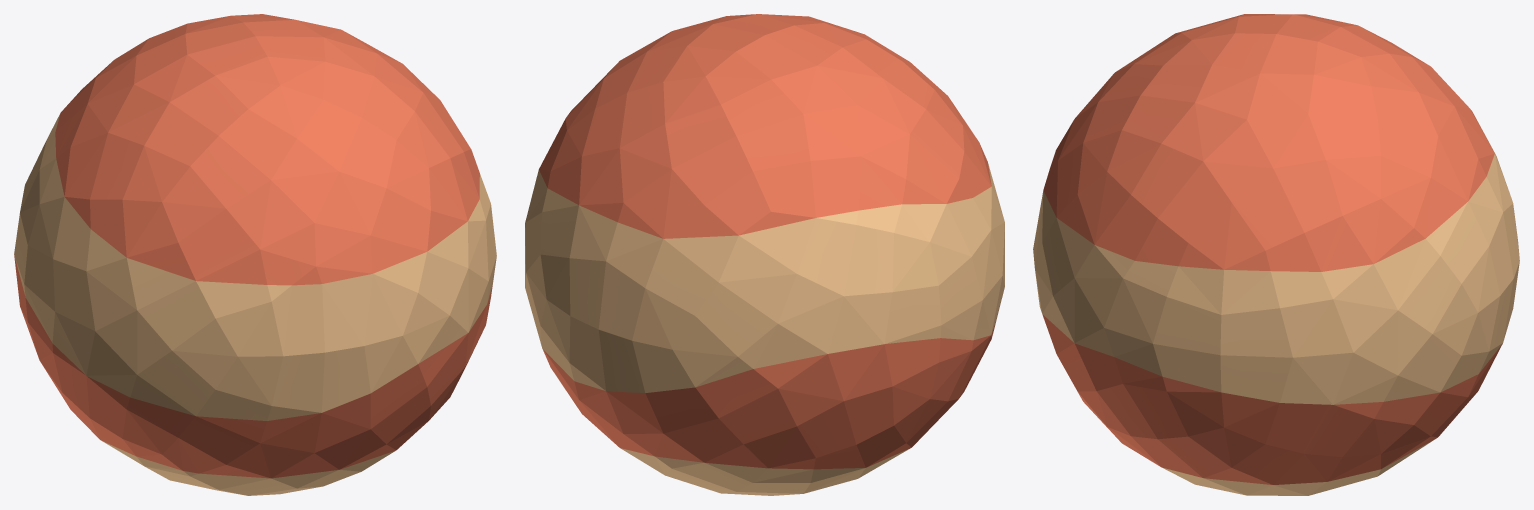
File: venus.glb
The picture shows the model from 3 angles, left to right: view 1: azimuth 30°, elevation 25°; view 2: azimuth 150°, elevation 25°; view 3: azimuth 270°, elevation 25°; orthographic projection.
Visible parts, largest first — view 1: huitugou_2145_04; view 2: huitugou_2145_04; view 3: huitugou_2145_04.
Part boxes in pixels (left/top/right/bottom): huitugou_2145_04: left=14, top=14, right=496, bottom=495; huitugou_2145_04: left=525, top=14, right=1004, bottom=495; huitugou_2145_04: left=1033, top=14, right=1519, bottom=495.
Bounding box in the file's own units: 1.12 × 1.12 × 1.12.
1 material, 1 textured.
